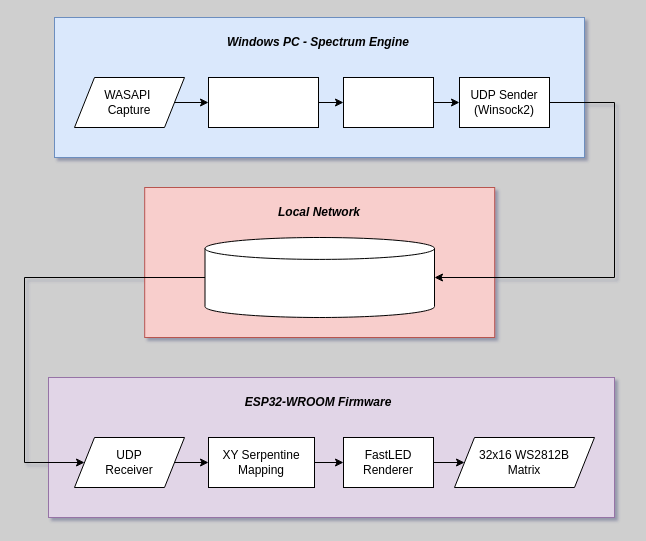
Image size: 646x541. Some labels were removed from this diagram. Here are the shapes that lost their labels. From the top down, the box of each, then its label:
(208, 76, 318, 128): FFTW3 + Decibel Math
(342, 76, 434, 128): Resample to 32 Columns
(204, 236, 434, 318): UDP Datagrams [mode] [RGB] [32 heights] @ 60fps
